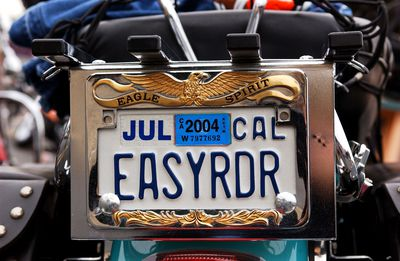license plate: (92, 108, 297, 211)
